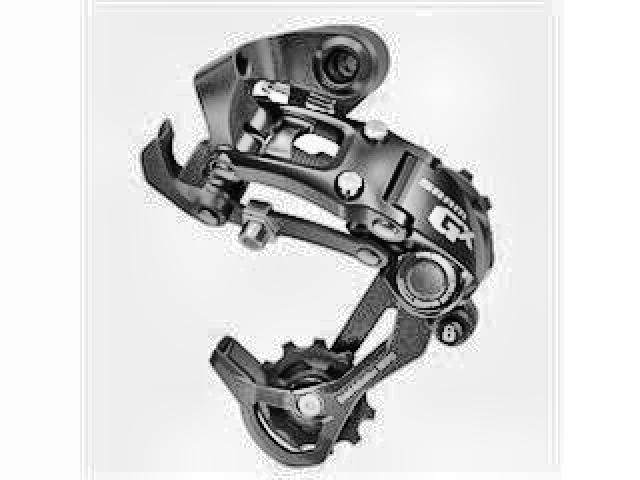rear_derailleur: (138, 22, 499, 470)
